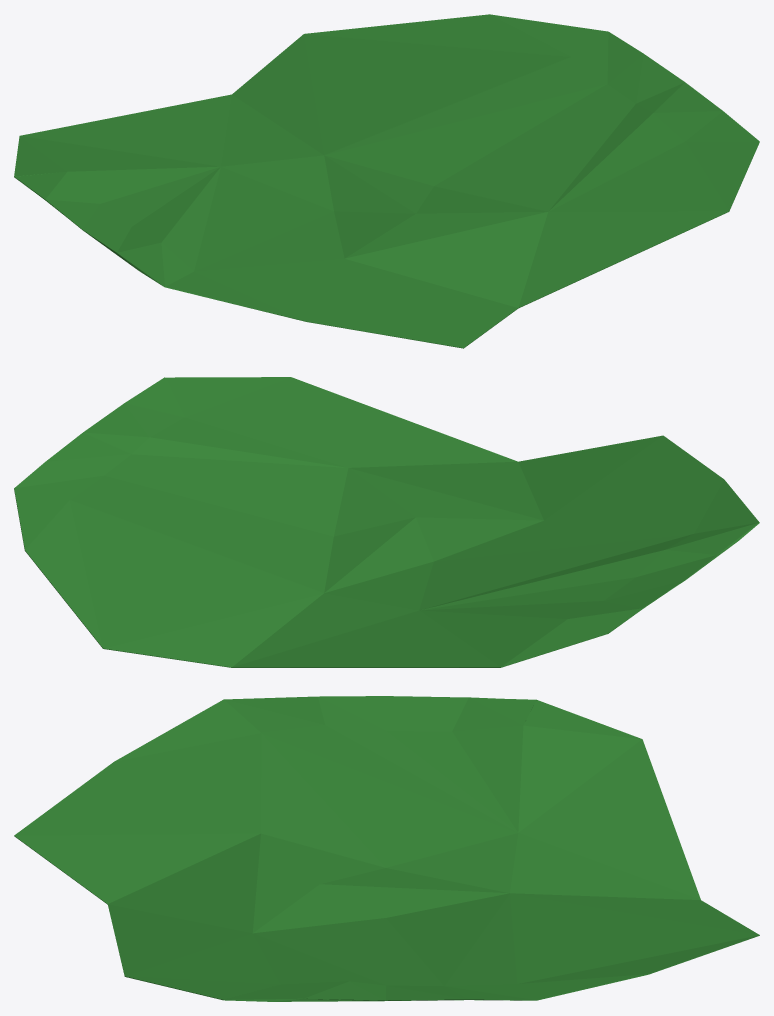
Rendered from Gras_quer_Mesh.fbx.
3 views of the same model, one above another, from view 1: azimuth 30°, elevation 25°; view 2: azimuth 150°, elevation 25°; view 3: azimuth 270°, elevation 25° (orthographic). The views are drawn at different scales.
Visible parts, largest first — view 1: Gras_quer; view 2: Gras_quer; view 3: Gras_quer.
Boxes of the visible parts, x1,y1,x2,y2 form: Gras_quer: (14, 14, 759, 348); Gras_quer: (14, 377, 759, 667); Gras_quer: (14, 696, 759, 1001).
Bounding box in the file's own units: 125 × 10.91 × 129.
